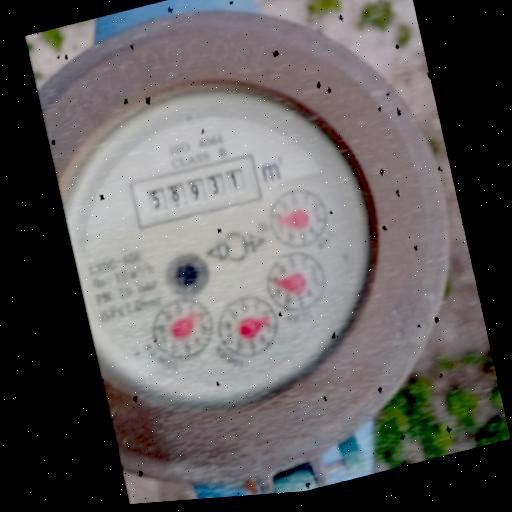1: (227, 168, 245, 192)
3: (208, 173, 225, 197)
5: (147, 188, 167, 214)
8: (167, 182, 187, 208)
9: (187, 177, 207, 203)
border_water_meter_number: (127, 151, 264, 231)
